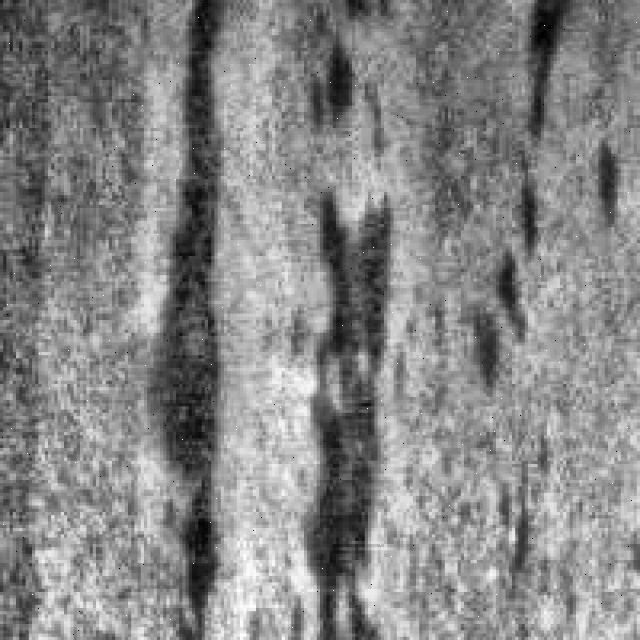Patches: (147, 0, 230, 634), (294, 173, 394, 637), (467, 166, 538, 394), (512, 0, 570, 138), (300, 29, 356, 157), (579, 134, 627, 233)
